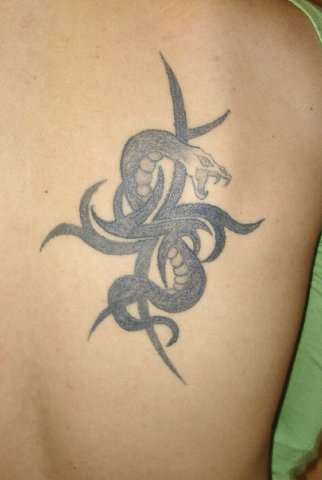tatu7_zmeya: (49, 62, 243, 346)
